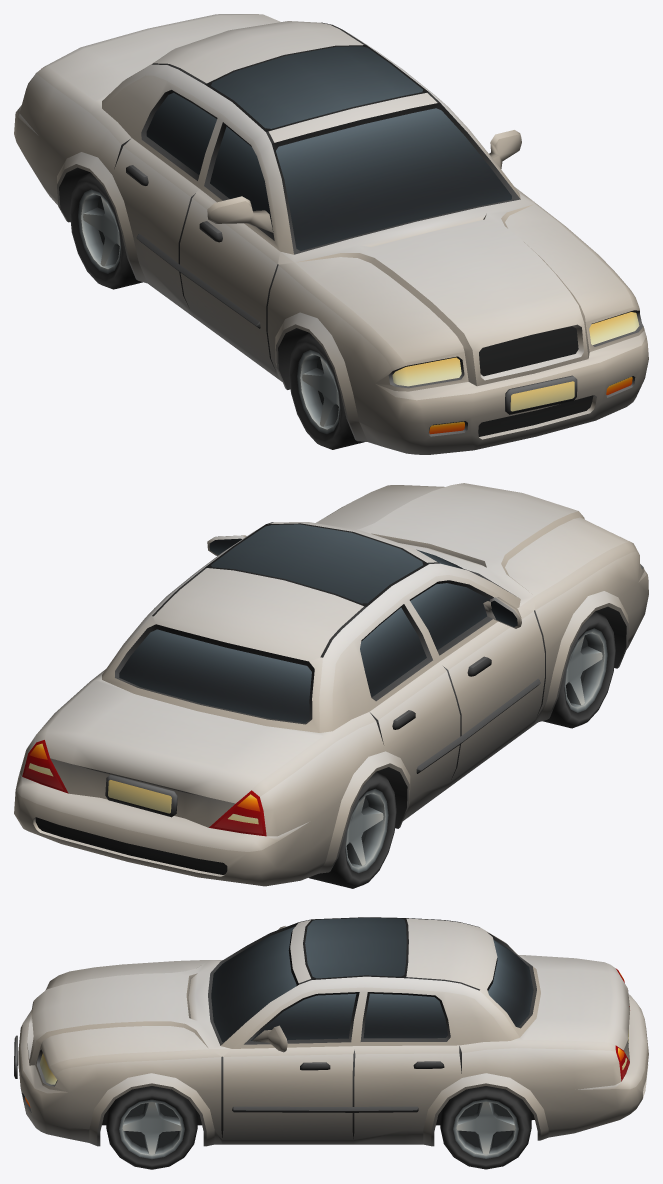
File: VHC0110005.FBX
3 renders of one model, top to bottom at view 1: azimuth 30°, elevation 25°; view 2: azimuth 150°, elevation 25°; view 3: azimuth 270°, elevation 25°, orthographic. The views are drawn at different scales.
Visible parts, largest first — view 1: smVHC0110005; view 2: smVHC0110005; view 3: smVHC0110005.
Boxes of the visible parts, box(x1,y1,x2,y2) form: smVHC0110005: box(14, 14, 648, 454); smVHC0110005: box(14, 483, 648, 888); smVHC0110005: box(14, 917, 648, 1169).
Bounding box in the file's own units: 1.6 × 1.16 × 3.7.
Materials: 1 (1 with a texture image).
